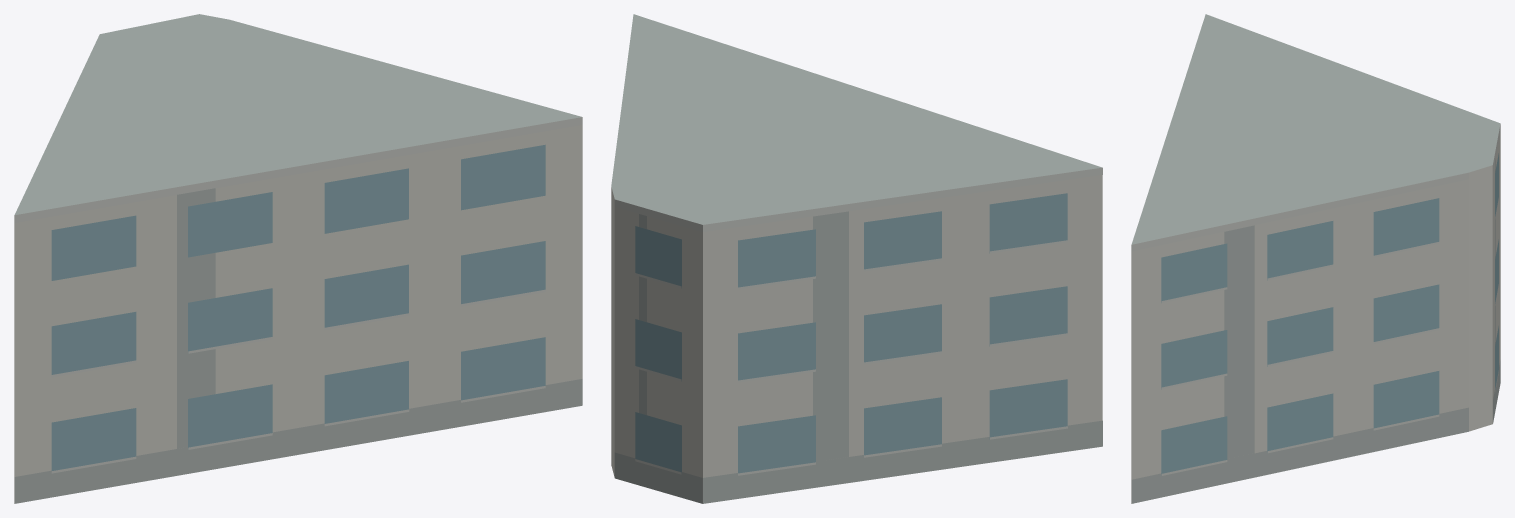
File: survey-upis-32770674.glb
3 views of the same model, side by side, from view 1: azimuth 30°, elevation 25°; view 2: azimuth 150°, elevation 25°; view 3: azimuth 270°, elevation 25° (orthographic). The views are drawn at different scales.
Visible parts, largest first — view 1: survey-upis-32770674.tmp; view 2: survey-upis-32770674.tmp; view 3: survey-upis-32770674.tmp.
Part boxes in pixels (x1=…): survey-upis-32770674.tmp: x1=14, y1=14, x2=582, y2=503; survey-upis-32770674.tmp: x1=611, y1=14, x2=1102, y2=503; survey-upis-32770674.tmp: x1=1131, y1=14, x2=1500, y2=503.
Size of the model in its own units: 17.49 by 9.15 by 11.83.
